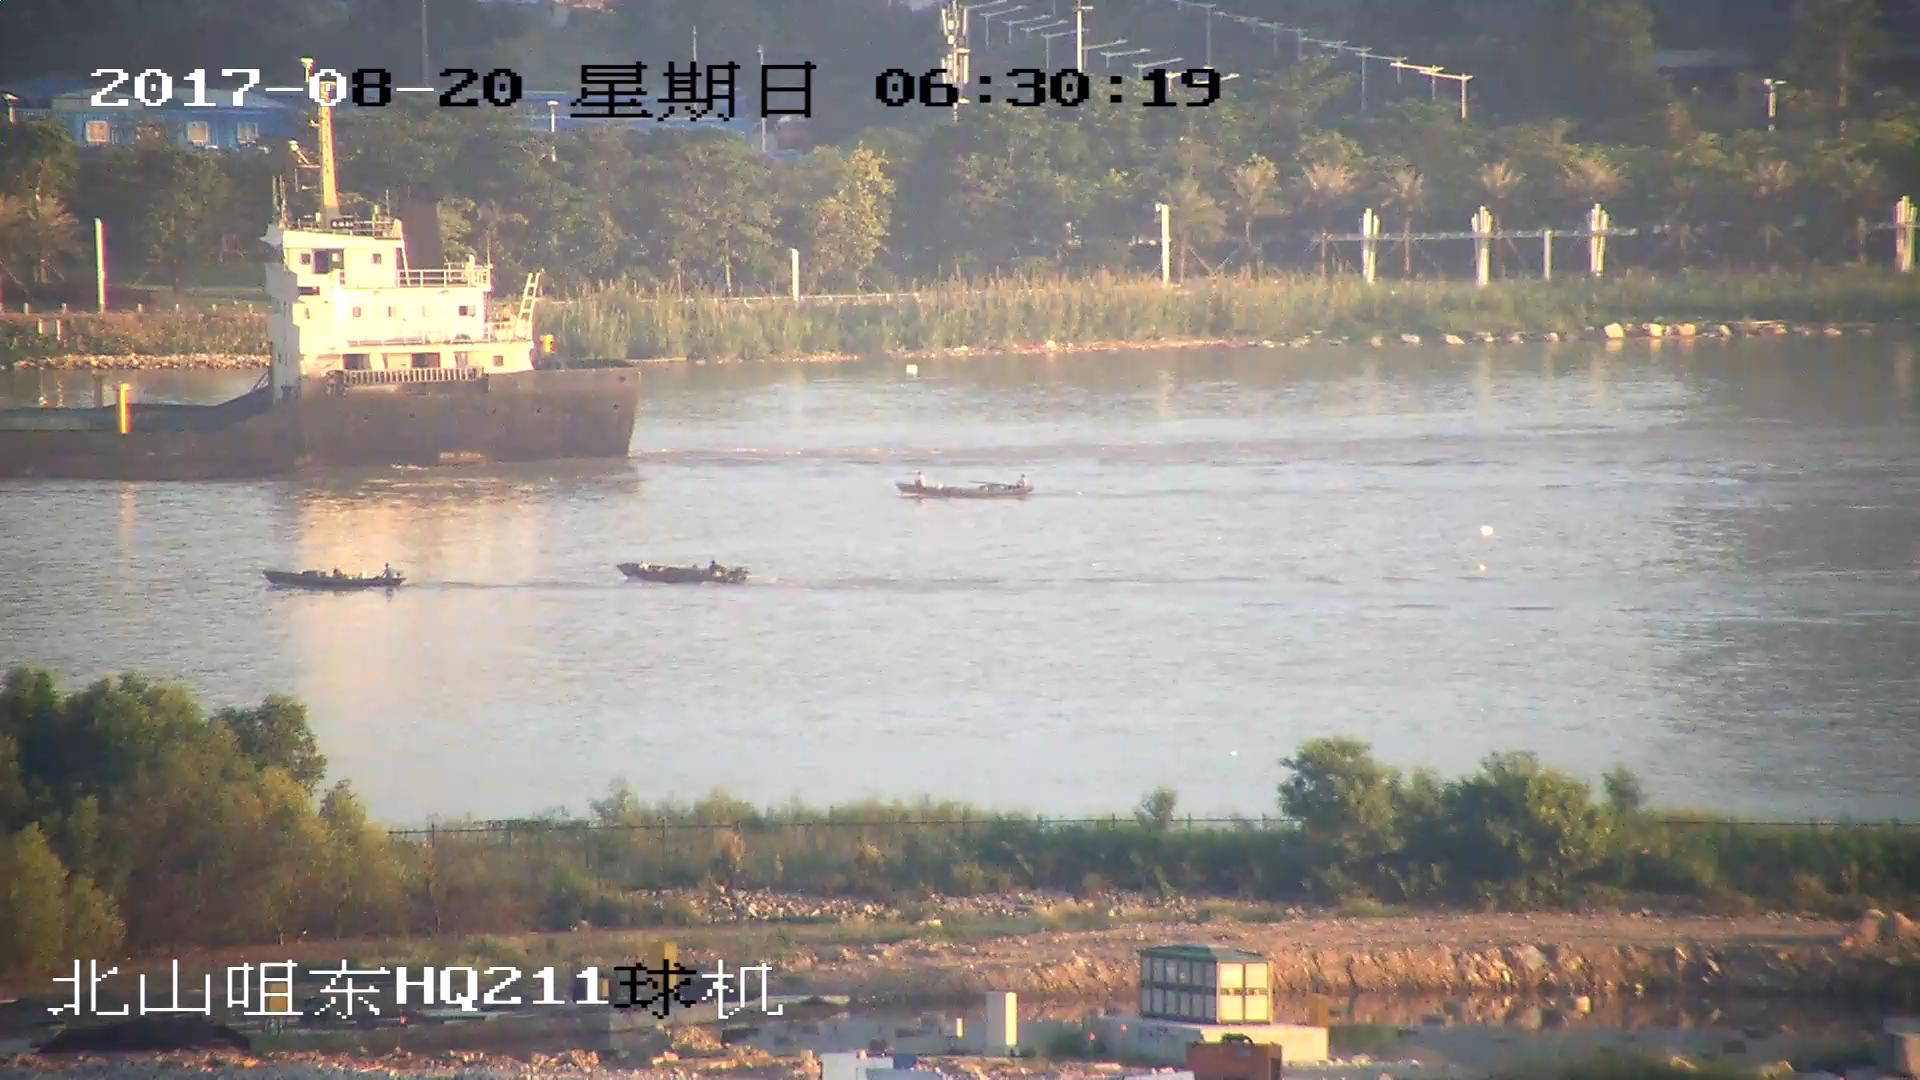fishing boat: (617, 556, 745, 588), (901, 470, 1031, 500), (265, 564, 405, 592)
general cargo ship: (1, 133, 641, 476)
